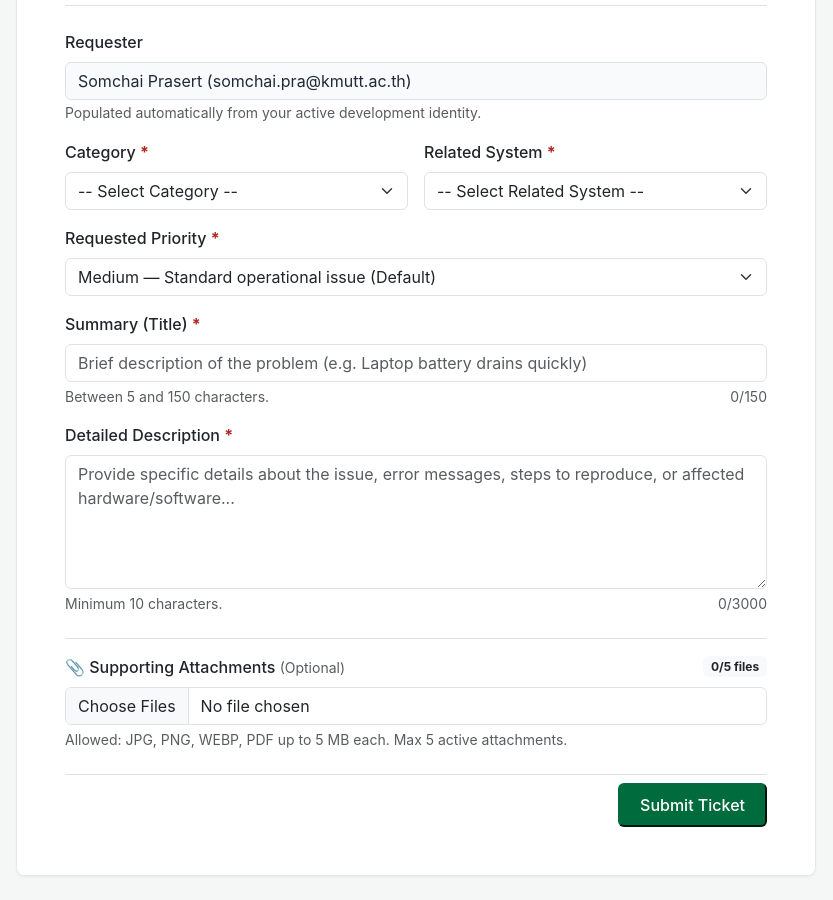
Test: UI-02 & UI-03: Create Ticket Form Component › UI-02: shows field-level inline error messages on invalid empty submit
(page scrolled)
Expected: the dropdown labelled "Category *" is shown, [65, 172, 408, 210]
Click the button "Submit Ticket" at x=692, y=805, box [618, 783, 767, 827]
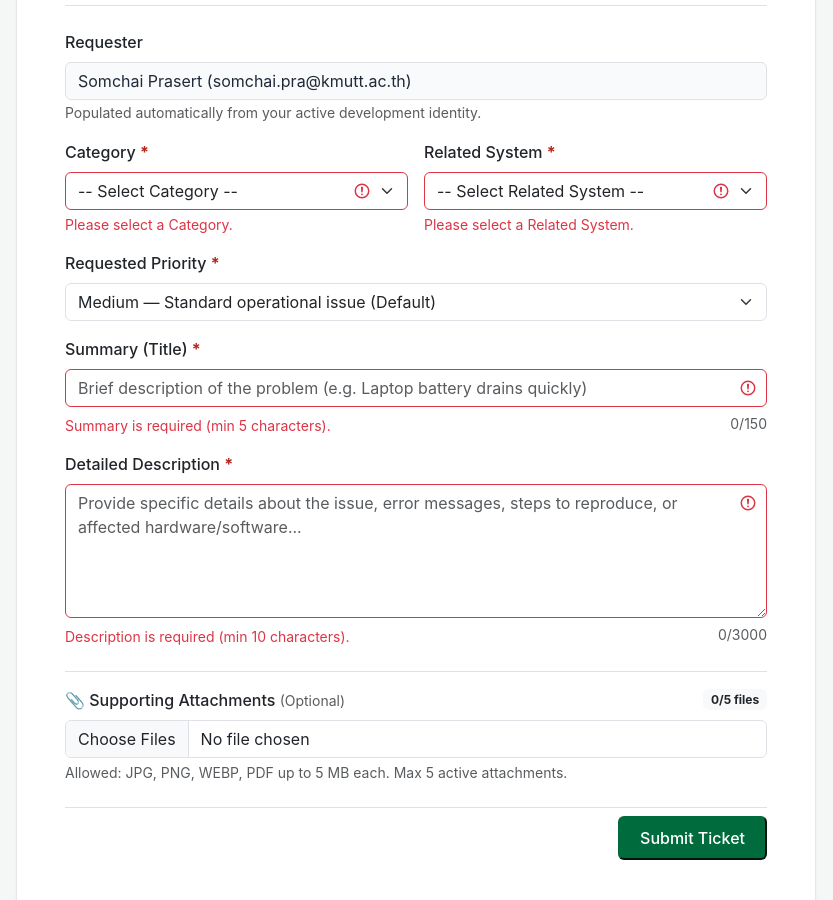
Expected: the text "Please select a Category." is shown, [65, 216, 233, 233]
Expected: the text "Please select a Related System." is shown, [424, 216, 634, 233]
Expected: the text "Summary is required (min 5 characters)." is shown, [65, 417, 331, 434]
